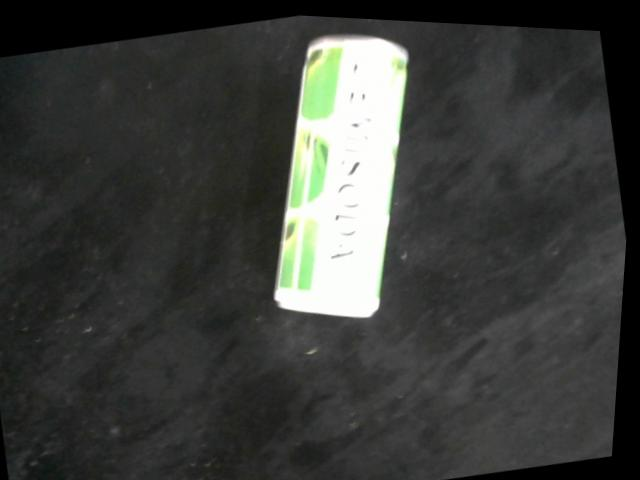can: (277, 30, 410, 315)
